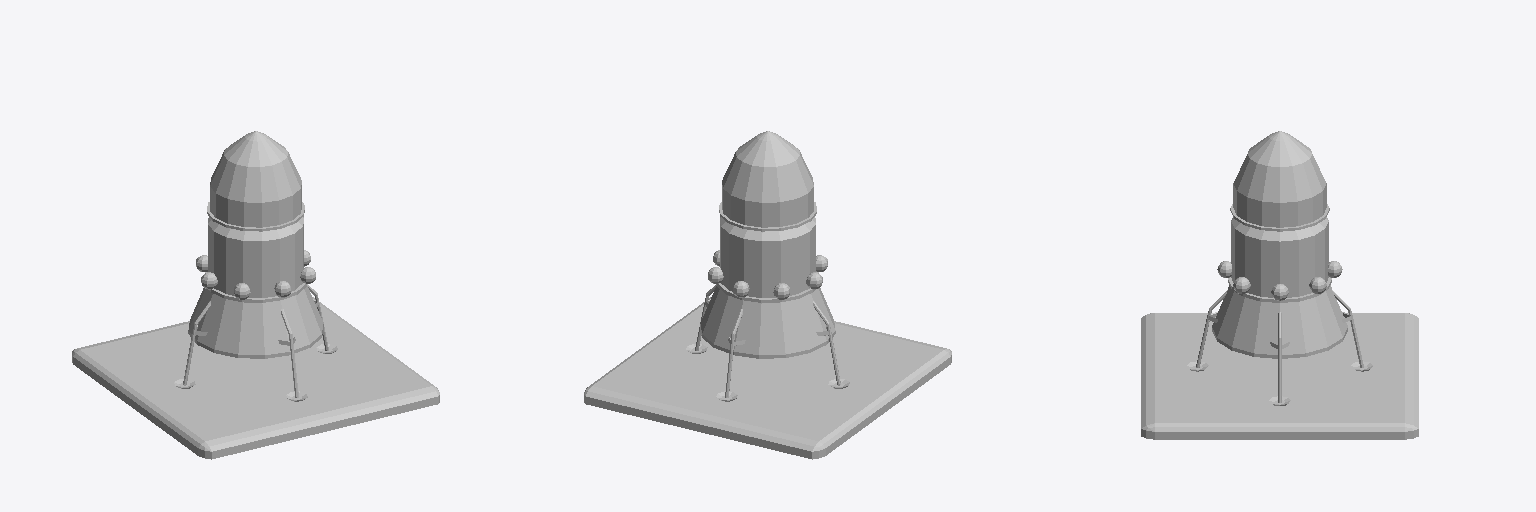
File: roket.obj
The picture shows the model from 3 angles: view 1: azimuth 30°, elevation 25°; view 2: azimuth 150°, elevation 25°; view 3: azimuth 270°, elevation 25°; orthographic projection.
Parts seen in each view (by area): view 1: Cube.016; view 2: Cube.016; view 3: Cube.016.
Boxes of the visible parts, <box> form: Cube.016: <box>72,131,439,459</box>; Cube.016: <box>584,131,951,459</box>; Cube.016: <box>1141,131,1418,439</box>.
Bounding box in the file's own units: 12 × 11.94 × 12.